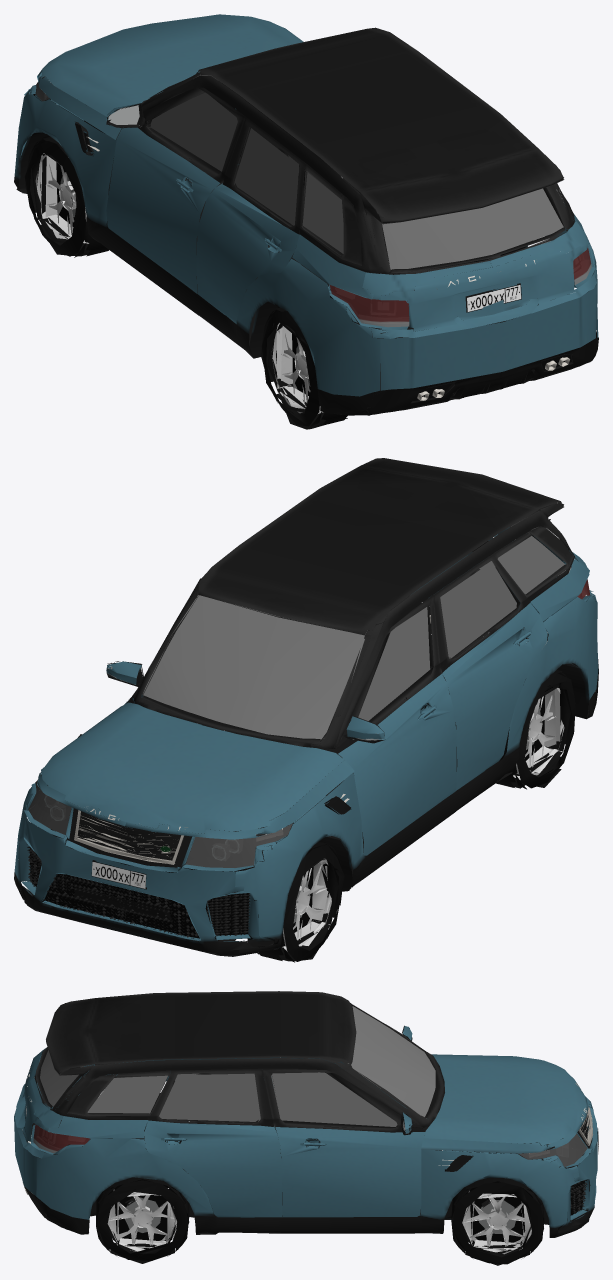
File: suv_d08204_lod1.glb
3 renders of one model, top to bottom at view 1: azimuth 30°, elevation 25°; view 2: azimuth 150°, elevation 25°; view 3: azimuth 270°, elevation 25°, orthographic. The views are drawn at different scales.
Visible parts, largest first — view 1: body, wheel_fl, wheel_rl; view 2: body, wheel_fl, wheel_rl; view 3: body, wheel_fr, wheel_rr.
Boxes of the visible parts, x1=… form: body: x1=14, y1=14, x2=598, y2=425; wheel_fl: x1=25, y1=136, x2=113, y2=257; wheel_rl: x1=261, y1=307, x2=347, y2=429; body: x1=14, y1=458, x2=598, y2=960; wheel_fl: x1=247, y1=837, x2=344, y2=962; wheel_rl: x1=511, y1=670, x2=575, y2=789; body: x1=14, y1=991, x2=598, y2=1253; wheel_fr: x1=451, y1=1178, x2=543, y2=1265; wheel_rr: x1=96, y1=1177, x2=189, y2=1263.
Bounding box in the file's own units: 2.04 × 1.79 × 4.88.
24 materials, 24 textured.
